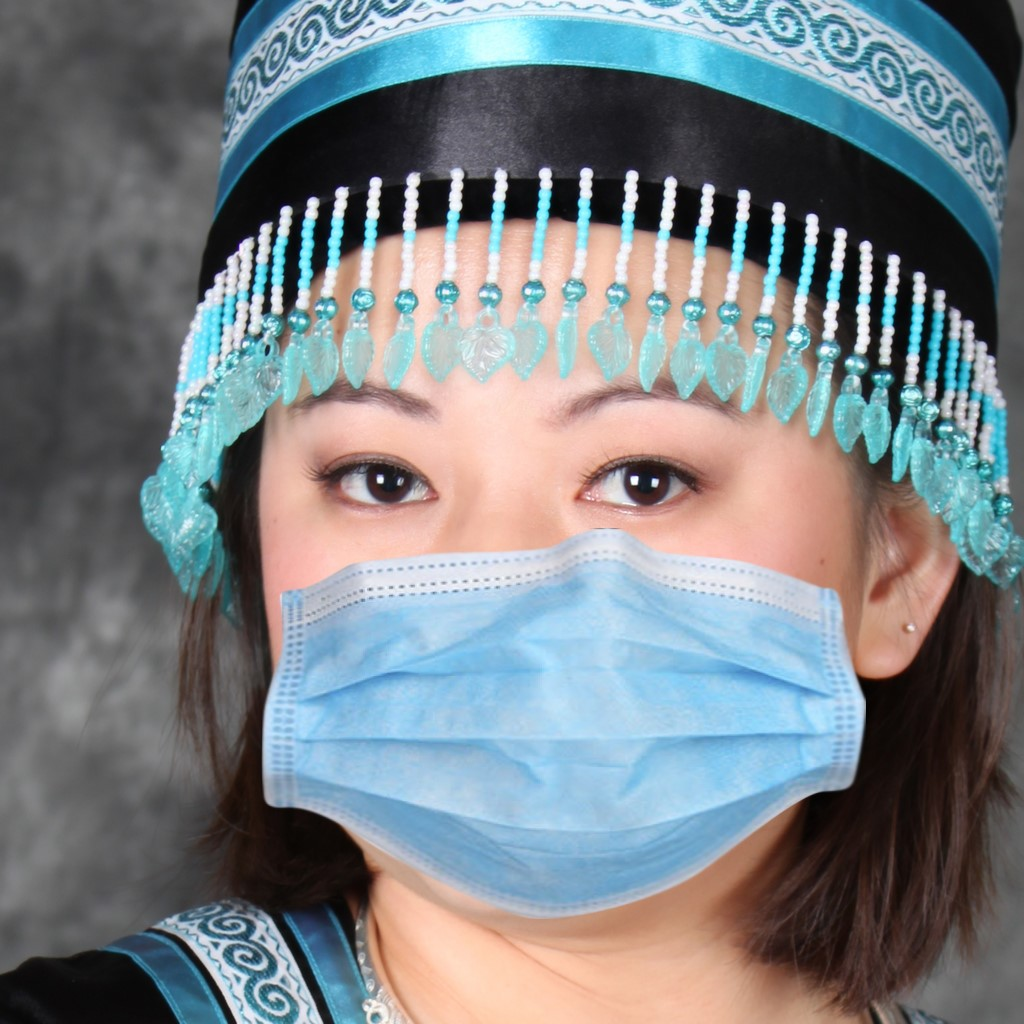con_mascara: (239, 193, 912, 886)
